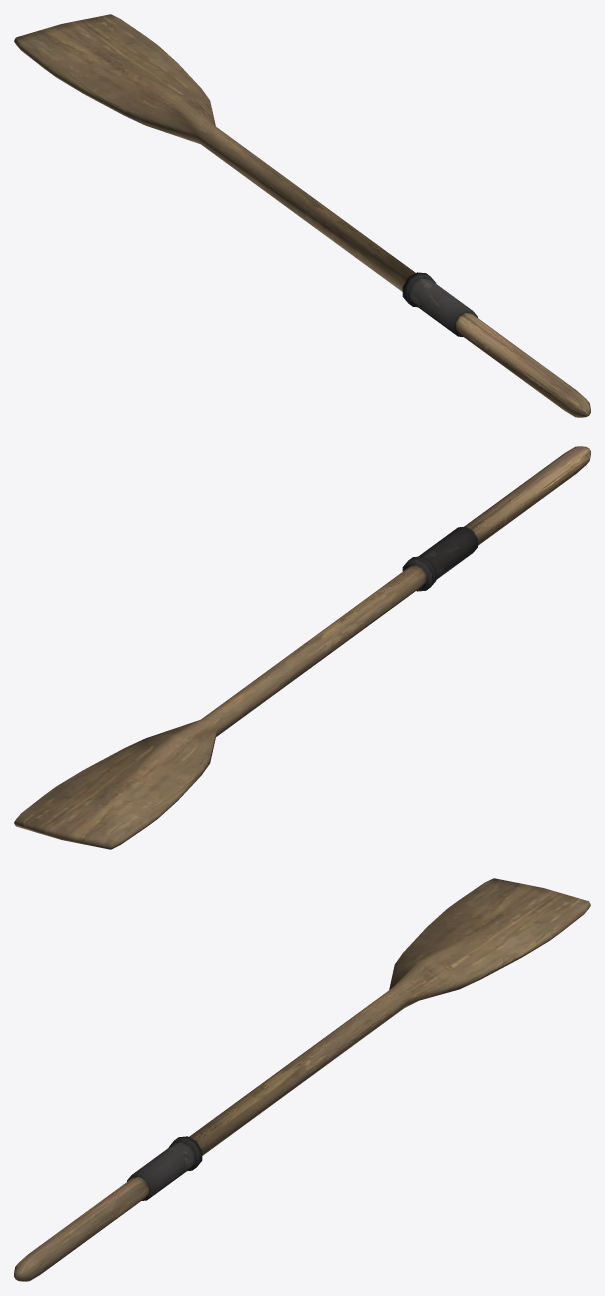
The picture shows the model from 3 angles, top to bottom: view 1: azimuth 30°, elevation 25°; view 2: azimuth 150°, elevation 25°; view 3: azimuth 330°, elevation 25°; orthographic projection.
Visible parts, largest first — view 1: body0_model0_lod0_mesh0; view 2: body0_model0_lod0_mesh0; view 3: body0_model0_lod0_mesh0.
Part boxes in pixels (x1=…): body0_model0_lod0_mesh0: x1=14, y1=14, x2=590, y2=417; body0_model0_lod0_mesh0: x1=14, y1=446, x2=590, y2=849; body0_model0_lod0_mesh0: x1=14, y1=878, x2=590, y2=1281.
Bounding box in the file's own units: 15.05 × 4.32 × 130.
Materials: 1 (1 with a texture image).
